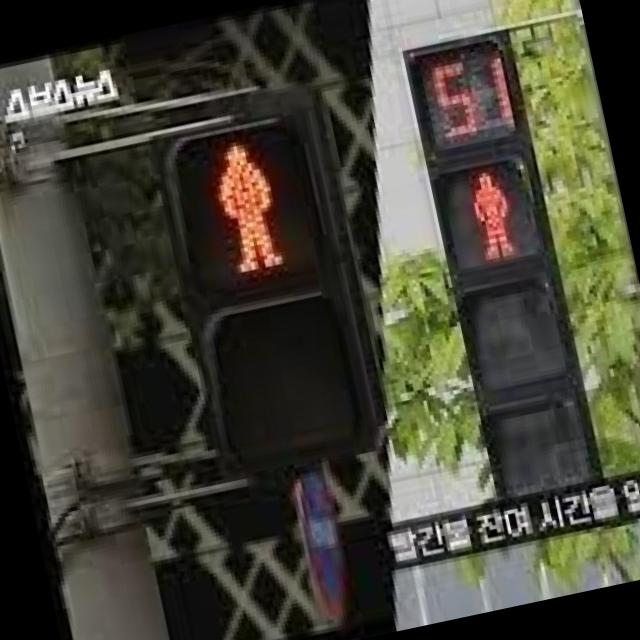red_light: (415, 48, 547, 268), (196, 132, 306, 290)
